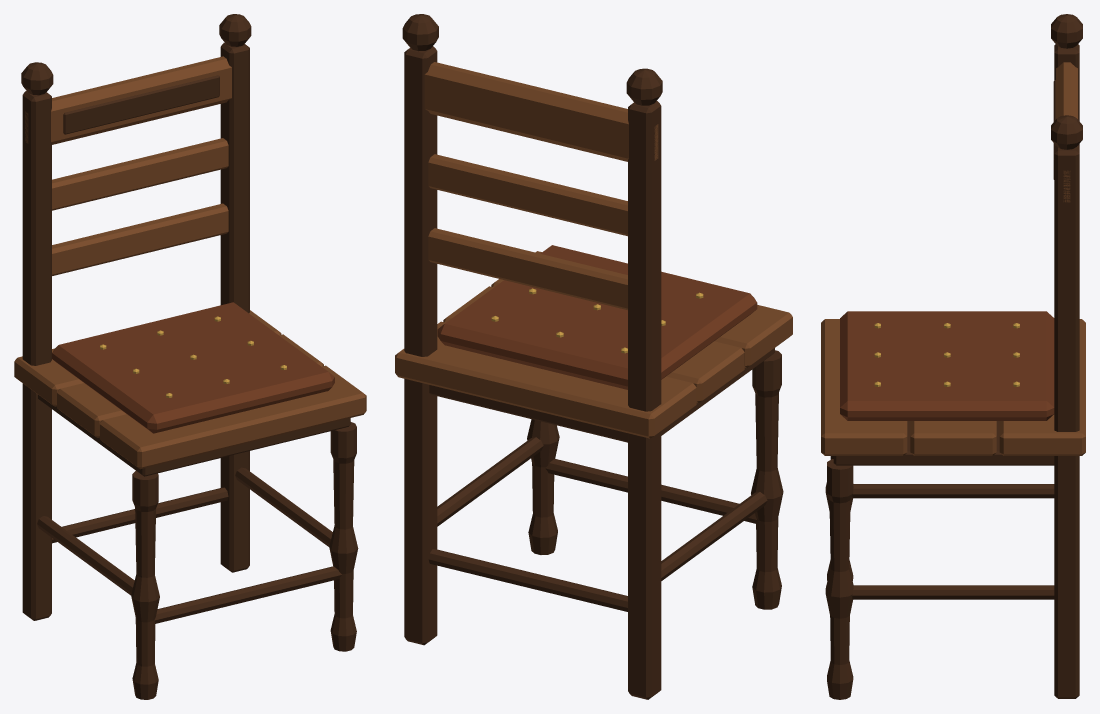
File: chair.obj
3 renders of one model, left to right at view 1: azimuth 30°, elevation 25°; view 2: azimuth 150°, elevation 25°; view 3: azimuth 270°, elevation 25°, orthographic. The views are drawn at different scales.
Parts seen in each view (by area): view 1: box.004, box.005, box.006, box, box.008, box.007, box.009, lathe.009, lathe.011, box.010, lathe.013, box.003 (+7 smaller); view 2: box.004, box.005, box.006, box.002, box.009, box.008, box.007, lathe.009, lathe.014, lathe.011, box.001, box.003 (+6 smaller); view 3: box.004, box.006, lathe.011, box, box.002, lathe.016, box.001, lathe.015, box.003, box.009, lathe.010, lathe.012 (+1 smaller).
Boxes of the visible parts, bbox=[...] form: box.004: bbox=[52, 302, 334, 433]; box.005: bbox=[22, 91, 51, 620]; box.006: bbox=[220, 42, 249, 572]; box: bbox=[99, 365, 366, 469]; box.008: bbox=[52, 138, 228, 210]; box.007: bbox=[52, 203, 228, 275]; box.009: bbox=[25, 56, 231, 144]; lathe.009: bbox=[131, 471, 159, 699]; lathe.011: bbox=[329, 422, 358, 651]; box.010: bbox=[63, 75, 219, 134]; lathe.013: bbox=[154, 566, 341, 623]; box.003: bbox=[38, 394, 350, 476]; box.004: bbox=[437, 245, 757, 389]; box.005: bbox=[628, 101, 661, 699]; box.006: bbox=[404, 46, 437, 645]; box.002: bbox=[395, 321, 696, 438]; box.009: bbox=[424, 62, 658, 161]; box.008: bbox=[428, 154, 627, 236]; box.007: bbox=[428, 228, 627, 310]; lathe.009: bbox=[751, 350, 783, 609]; lathe.014: bbox=[428, 549, 627, 611]; lathe.011: bbox=[527, 419, 559, 554]; box.001: bbox=[443, 286, 744, 403]; box.003: bbox=[429, 348, 774, 442]; box.004: bbox=[840, 311, 1054, 420]; box.006: bbox=[1054, 145, 1079, 698]; lathe.011: bbox=[825, 459, 853, 699]; box: bbox=[821, 319, 907, 455]; box.002: bbox=[999, 319, 1085, 455]; lathe.016: bbox=[852, 585, 1054, 599]; box.001: bbox=[910, 421, 996, 455]; lathe.015: bbox=[852, 484, 1054, 498]; box.003: bbox=[833, 421, 1054, 465]; box.009: bbox=[1056, 62, 1077, 202]; lathe.010: bbox=[1051, 14, 1082, 48]; lathe.012: bbox=[1051, 115, 1082, 149].
Bounding box in the file's own units: 0.44 × 1.01 × 0.42.
